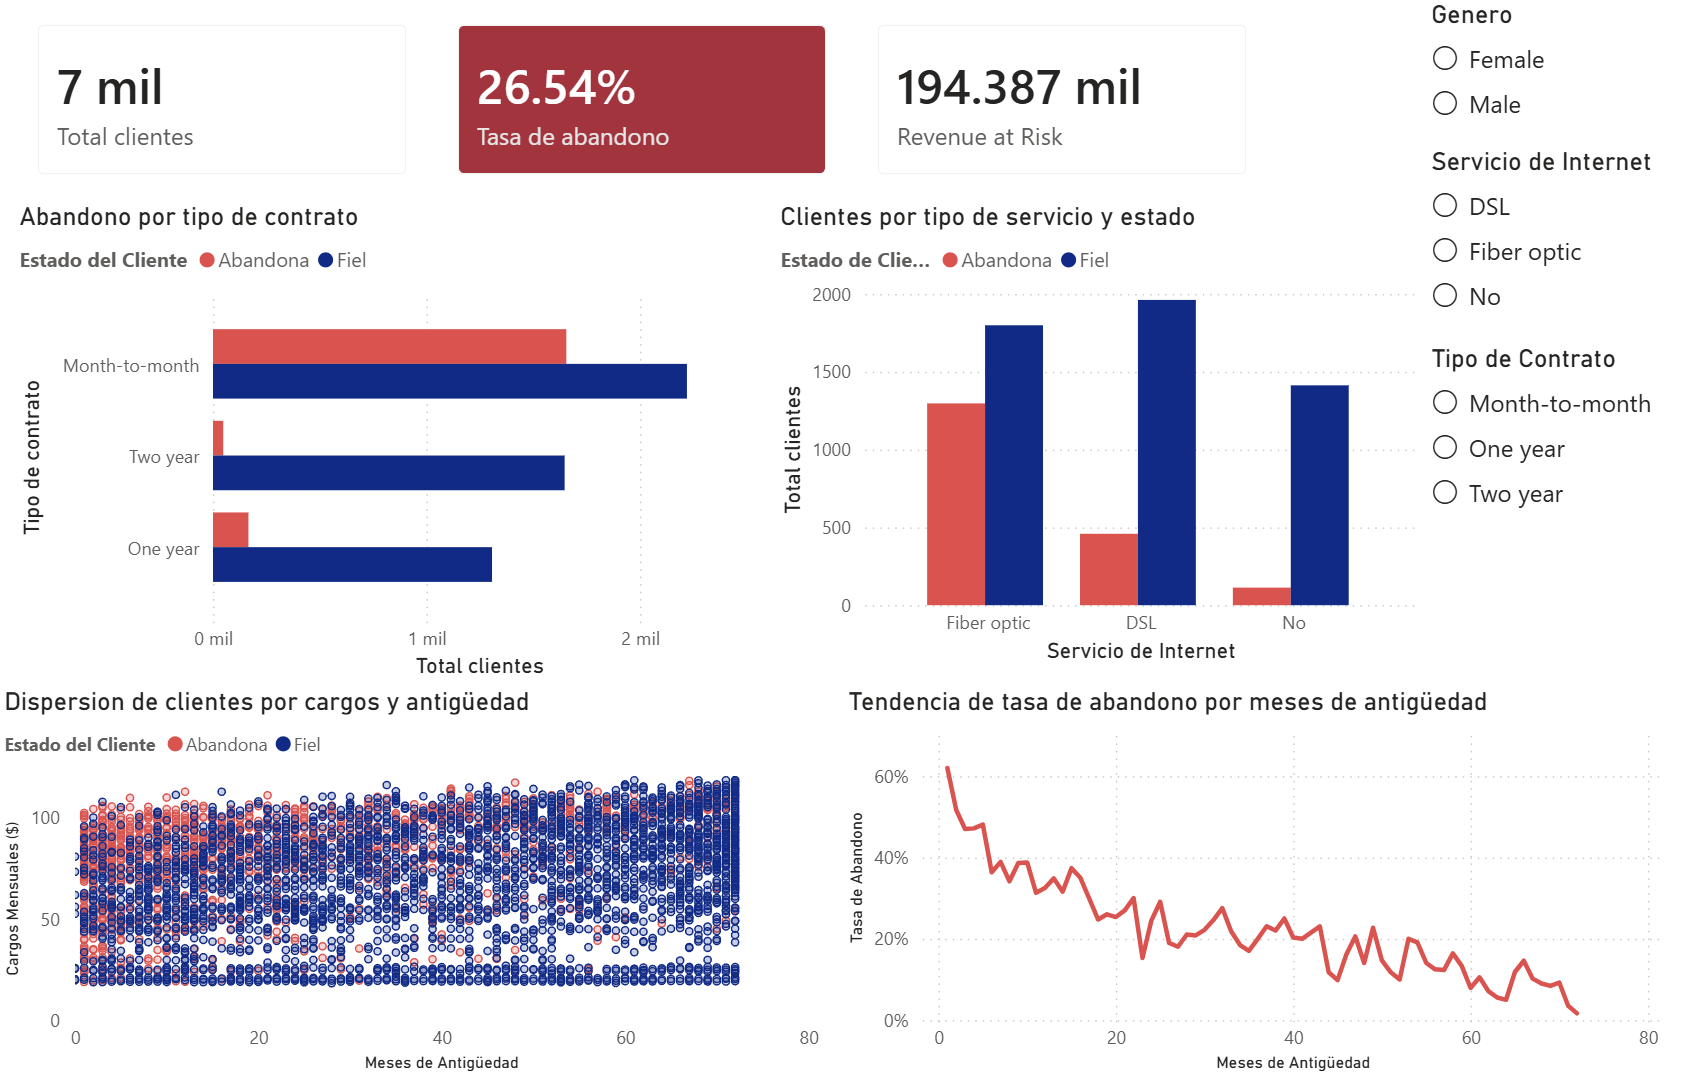

The page's visual inventory and layout, read from the dashboard file:
{"tool":"powerbi","page":{"name":"Página 1","canvas":[1280,720],"ordinal":0},"visuals":[{"type":"cardVisual","fields":{"Data":["public v_reporte_churn_bi.Total clientes"]},"box":[9.8,0,280.1,134.8],"z":0},{"type":"cardVisual","title":"Tasa de abandono","fields":{"Data":["public v_reporte_churn_bi.Churn Rate"]},"box":[289.9,0,280.1,134.8],"z":1000},{"type":"cardVisual","fields":{"Data":["public v_reporte_churn_bi.Revenue at Risk"]},"box":[570,0,280.1,134.8],"z":2000},{"type":"clusteredBarChart","title":"Abandono por tipo de contrato","fields":{"Category":["public v_reporte_churn_bi.tipo_contrato"],"Y":["public v_reporte_churn_bi.Total clientes"],"Series":["public v_reporte_churn_bi.estado_cliente"]},"box":[9.8,134.8,507.8,323.3],"z":3000},{"type":"clusteredColumnChart","title":"Clientes por tipo de servicio y estado","fields":{"Y":["public v_reporte_churn_bi.Total clientes"],"Series":["public v_reporte_churn_bi.estado_cliente"],"Category":["public v_reporte_churn_bi.servicio_internet"]},"box":[517.6,134.8,433.9,312.8],"z":4000},{"type":"scatterChart","title":"Dispersion de clientes por cargos y antigüedad","fields":{"Y":["public v_reporte_churn_bi.cargos_mensuales"],"X":["public v_reporte_churn_bi.meses_antiguedad"],"Series":["public v_reporte_churn_bi.estado_cliente"]},"box":[0,458,552.7,262],"z":5000},{"type":"listSlicer","fields":{"Values":["public v_reporte_churn_bi.genero"]},"box":[951.5,0,316.7,91],"z":6000},{"type":"listSlicer","fields":{"Values":["public v_reporte_churn_bi.servicio_internet"]},"box":[951.4,97.9,328.6,125.7],"z":7000},{"type":"listSlicer","fields":{"Values":["public v_reporte_churn_bi.tipo_contrato"]},"box":[951.4,229.3,328.6,137.1],"z":8000},{"type":"lineChart","title":"Tendencia de tasa de abandono por meses de antigüedad","fields":{"Category":["public v_reporte_churn_bi.meses_antiguedad"],"Y":["public v_reporte_churn_bi.Churn Rate"]},"box":[573.3,458,585.3,262],"z":9000},{"type":"cardVisual","fields":{"Data":["public v_reporte_churn_bi.fuga_de_ingresos"]},"box":[951.3,360,314,98],"z":9001}]}

Visuals, with their boxes on the page's 1280x720 design canvas (x1, y1, x2, y2). These are canvas units, not pixel positions in the 1690x1076 screenshot, which may show the page scaled, cropped or inside an application window:
cardVisual - public v_reporte_churn_bi.Total clientes: <region>10, 0, 290, 135</region>
"Tasa de abandono" cardVisual: <region>290, 0, 570, 135</region>
cardVisual - public v_reporte_churn_bi.Revenue at Risk: <region>570, 0, 850, 135</region>
"Abandono por tipo de contrato" clusteredBarChart: <region>10, 135, 518, 458</region>
"Clientes por tipo de servicio y estado" clusteredColumnChart: <region>518, 135, 952, 448</region>
"Dispersion de clientes por cargos y antigüedad" scatterChart: <region>0, 458, 553, 720</region>
listSlicer - public v_reporte_churn_bi.genero: <region>952, 0, 1268, 91</region>
listSlicer - public v_reporte_churn_bi.servicio_internet: <region>951, 98, 1280, 224</region>
listSlicer - public v_reporte_churn_bi.tipo_contrato: <region>951, 229, 1280, 366</region>
"Tendencia de tasa de abandono por meses de antigüedad" lineChart: <region>573, 458, 1159, 720</region>
cardVisual - public v_reporte_churn_bi.fuga_de_ingresos: <region>951, 360, 1265, 458</region>
